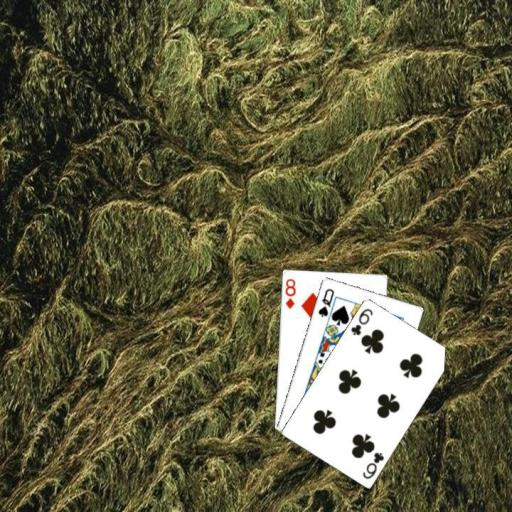6C: (359, 449, 386, 480), (348, 305, 374, 336)
8D: (283, 275, 298, 310)
QS: (315, 285, 336, 319)
